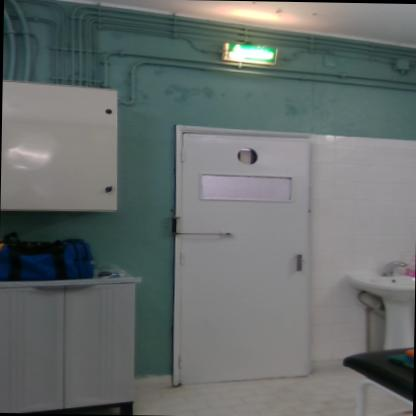closed: (152, 115, 324, 387)
